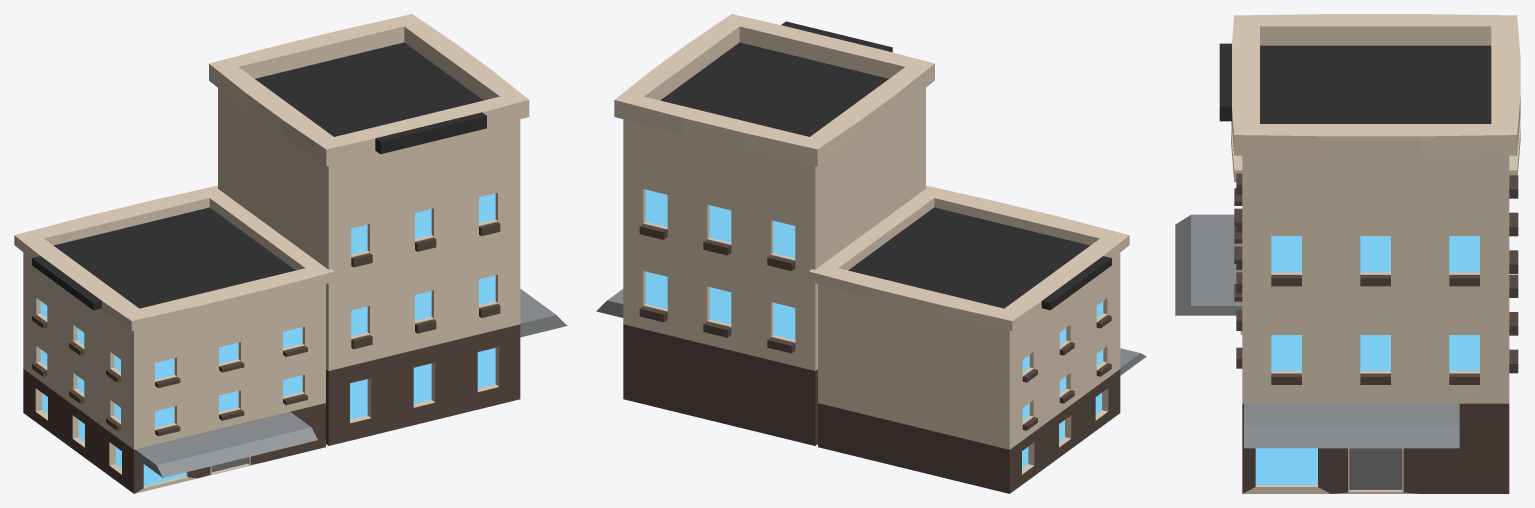
The model's file is gedung3.glb.
The picture shows the model from 3 angles, left to right: view 1: azimuth 30°, elevation 25°; view 2: azimuth 150°, elevation 25°; view 3: azimuth 270°, elevation 25°; orthographic projection. The views are drawn at different scales.
Parts seen in each view (by area): view 1: Plane.001, Plane; view 2: Plane.001, Plane; view 3: Plane.001, Plane.
Part boxes in pixels (x1,y1,x2,y2): Plane.001: [209, 14, 567, 445]; Plane: [14, 185, 334, 493]; Plane.001: [596, 14, 934, 445]; Plane: [809, 185, 1146, 493]; Plane.001: [1219, 14, 1520, 493]; Plane: [1175, 115, 1520, 334].
Bounding box in the file's own units: 8.89 × 5.67 × 4.89.
